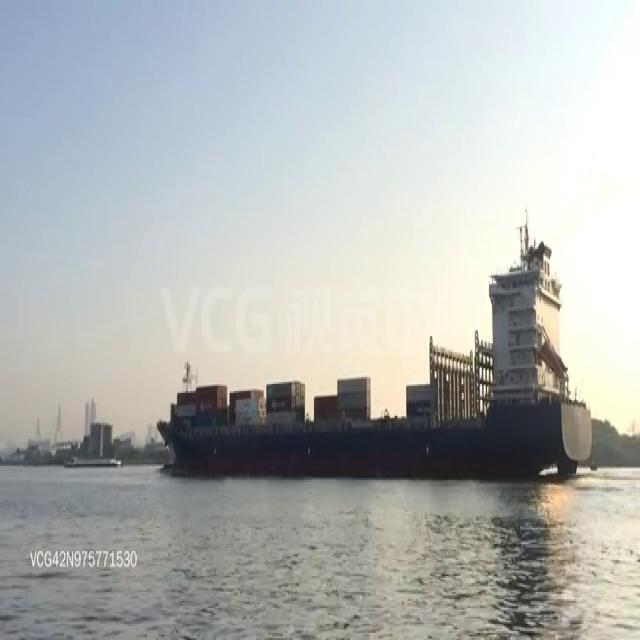cargoship: (159, 266, 588, 479)
